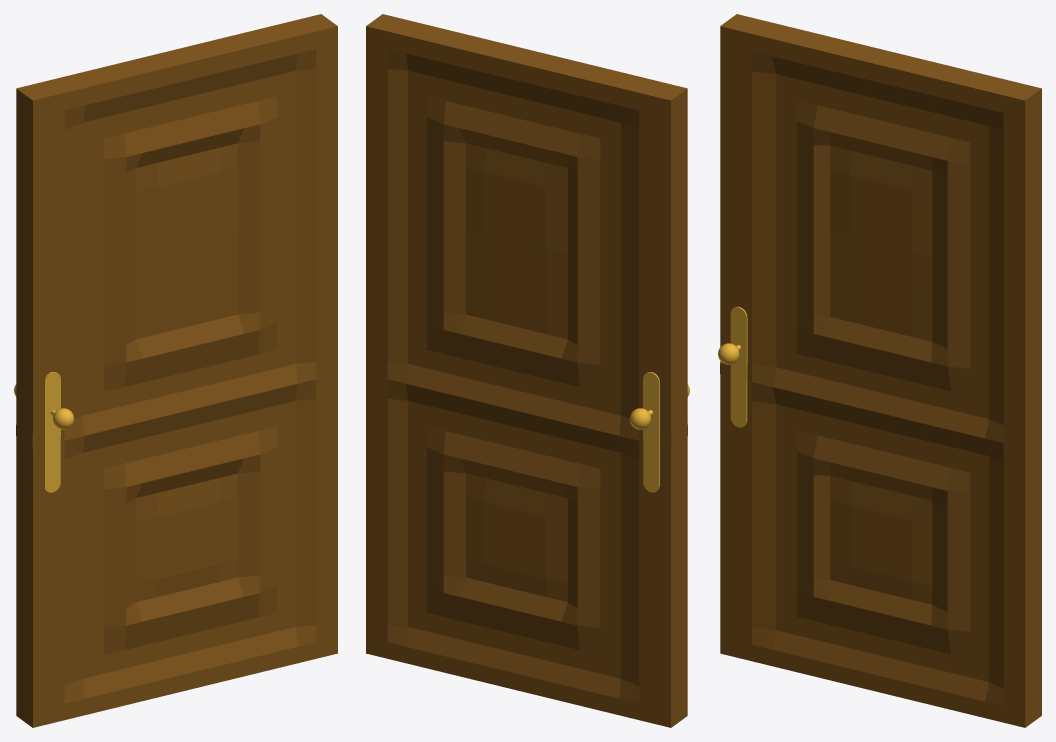
File: betterdoor.fbx
The picture shows the model from 3 angles, left to right: view 1: azimuth 30°, elevation 25°; view 2: azimuth 150°, elevation 25°; view 3: azimuth 330°, elevation 25°; orthographic projection.
Parts seen in each view (by area): view 1: Plane, Plane.003; view 2: Plane, Plane.003; view 3: Plane, Plane.003.
Part boxes in pixels (box(x1,y1,x2,y2)): Plane: box(16, 14, 337, 727); Plane.003: box(44, 372, 60, 492); Plane: box(366, 14, 687, 727); Plane.003: box(643, 372, 659, 492); Plane: box(720, 14, 1041, 727); Plane.003: box(730, 306, 747, 427).
Bounding box in the file's own units: 243 × 477 × 68.19.
